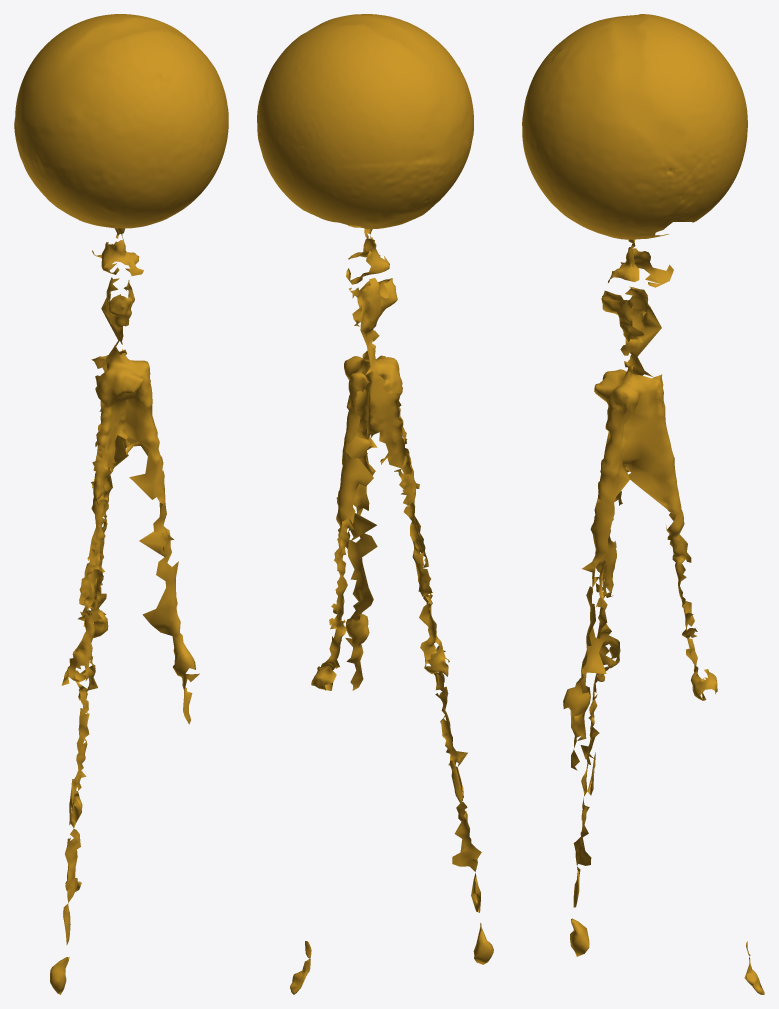
Rendered from Gridtest_2_3_1.000001.obj.
The picture shows the model from 3 angles, left to right: view 1: azimuth 30°, elevation 25°; view 2: azimuth 150°, elevation 25°; view 3: azimuth 270°, elevation 25°; orthographic projection. The views are drawn at different scales.
Visible parts, largest first — view 1: ./Gridtest_2_3_1.000001; view 2: ./Gridtest_2_3_1.000001; view 3: ./Gridtest_2_3_1.000001.
Boxes of the visible parts, bbox=[...] form: ./Gridtest_2_3_1.000001: bbox=[14, 14, 228, 994]; ./Gridtest_2_3_1.000001: bbox=[257, 14, 493, 994]; ./Gridtest_2_3_1.000001: bbox=[522, 14, 764, 994].
Bounding box in the file's own units: 309 × 1430 × 322.
